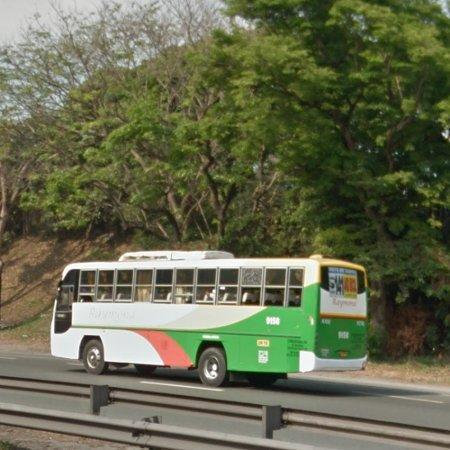buses: (50, 251, 368, 387)
